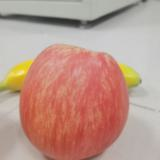apple: (20, 44, 130, 160)
